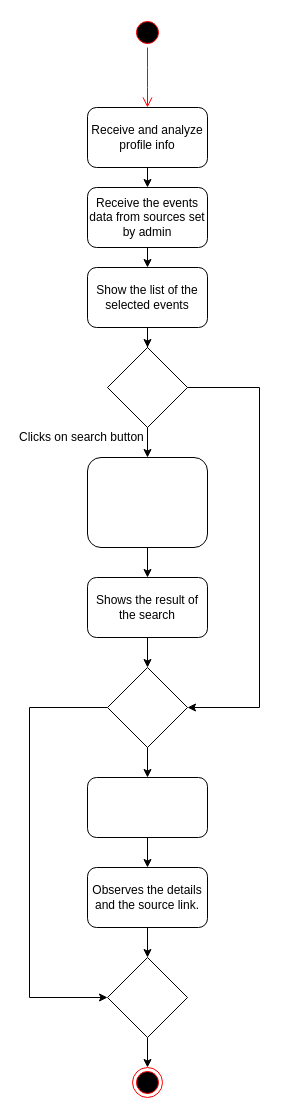
The diagram is 285 pixels wide and 1115 high, and some of its shapes have lost their labels. The shapes that lost their labels are listed below. From the top down, each one's box as (x1, y1, x2, y2) in pixels, then its label:
(86, 456, 208, 548): Gets the name and other filters such as place, subject, price, etc.
(86, 776, 208, 838): Clicks on an event
